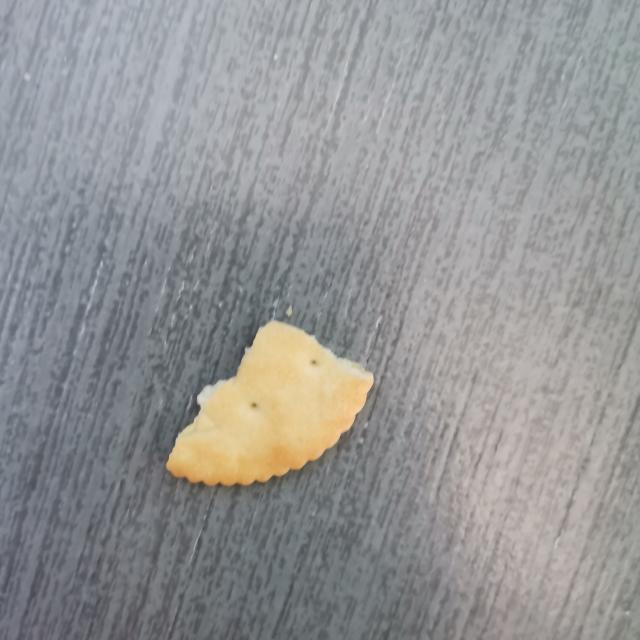Broken: (165, 318, 374, 487)
